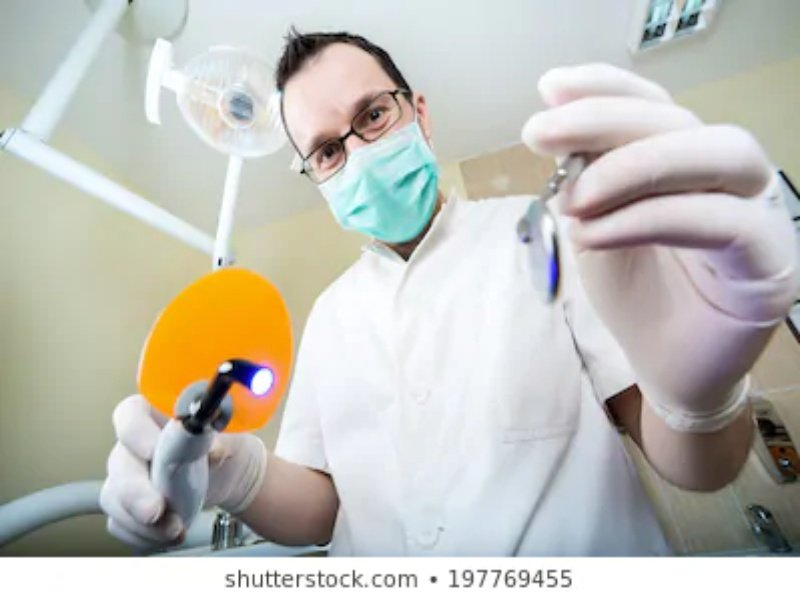ManaoArotava: (262, 28, 459, 257)
